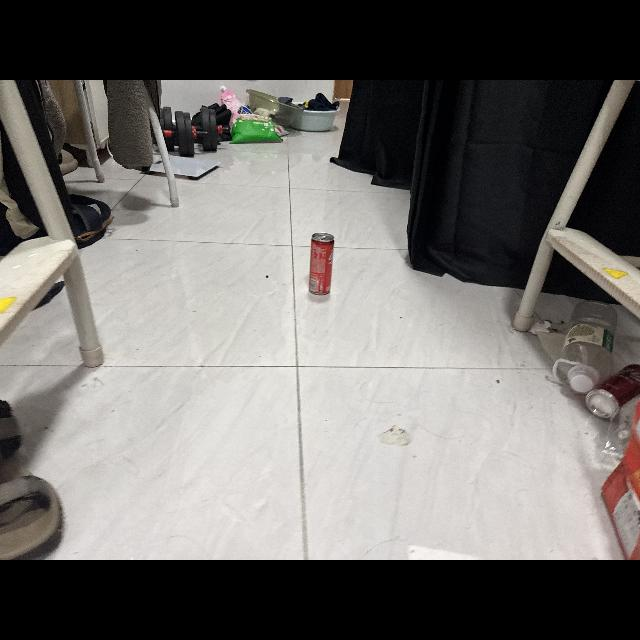Cola: (304, 230, 338, 300)
